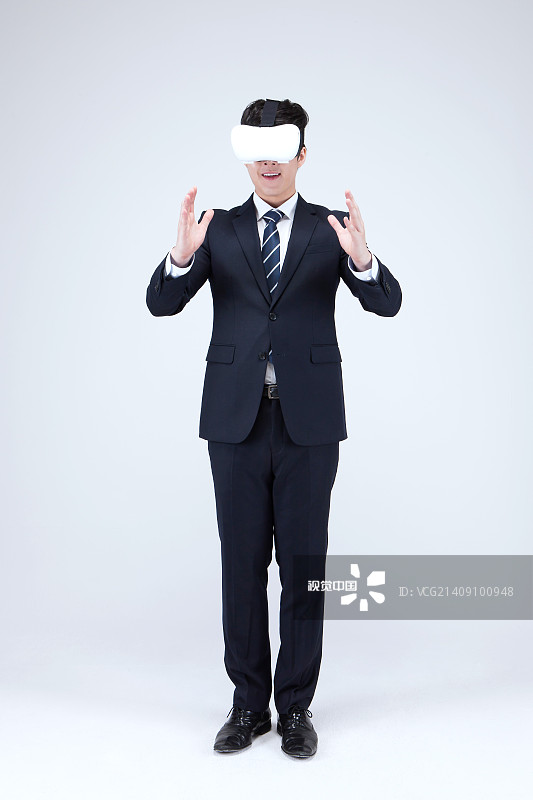no-phone: (161, 174, 226, 280), (317, 173, 383, 275)
